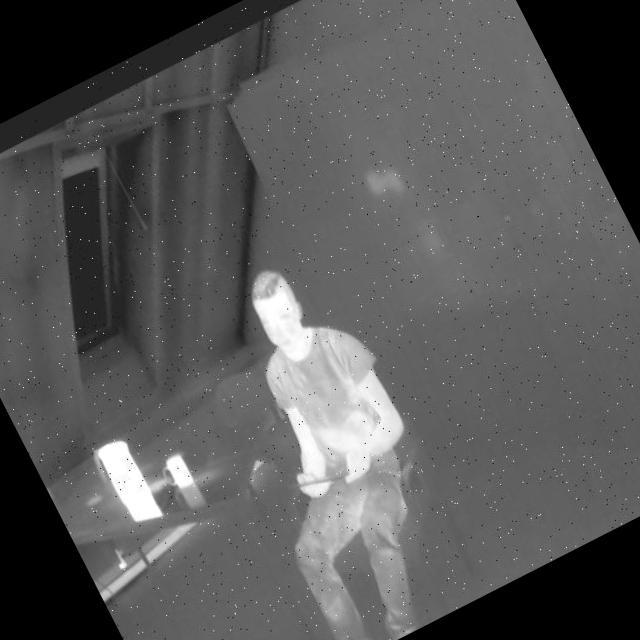person: (165, 246, 494, 640)
